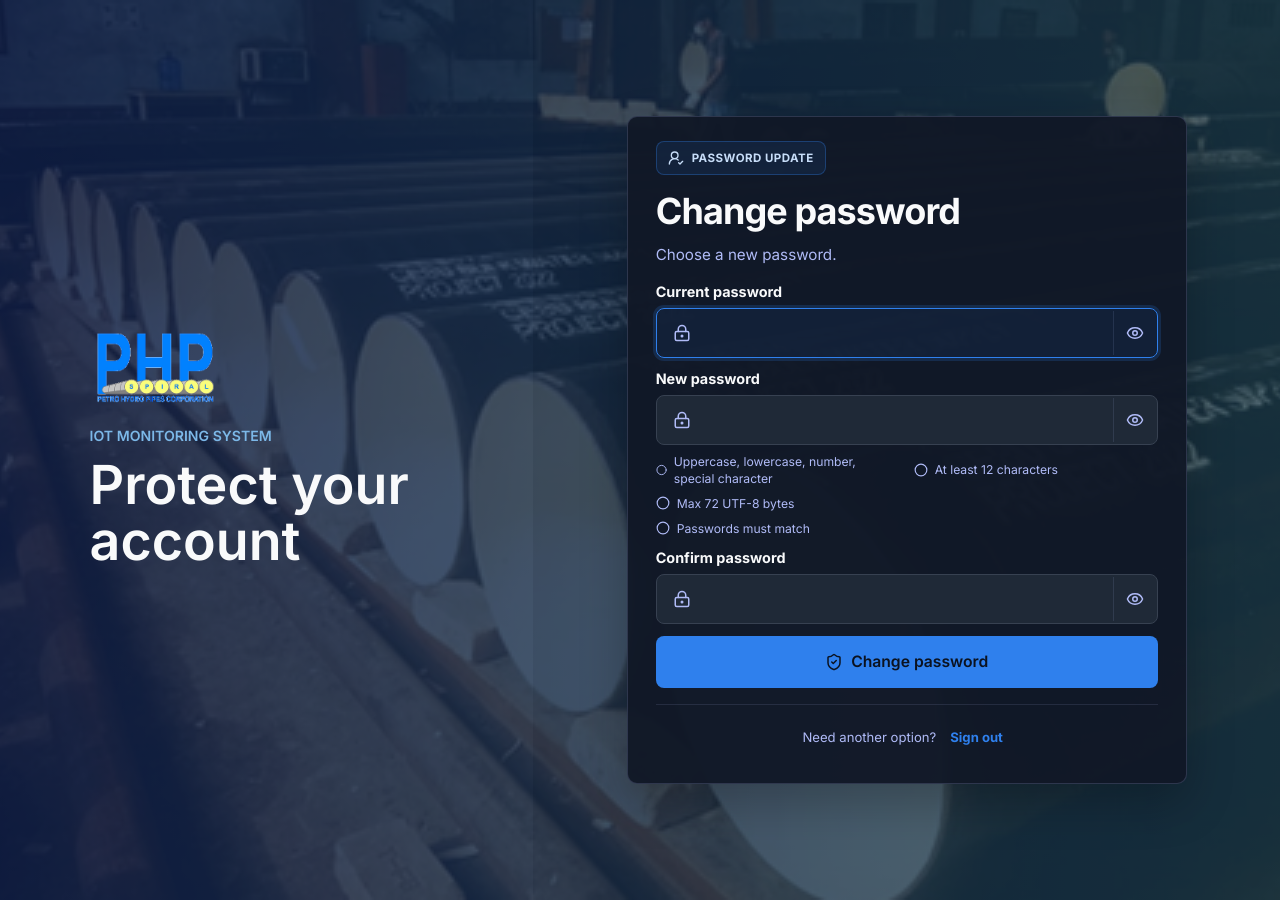
Test: counts Unicode characters instead of UTF-16 units for the minimum length
In the password field labelled "Current password": coordinates (903, 333) [703,309,1103,357], type "old"
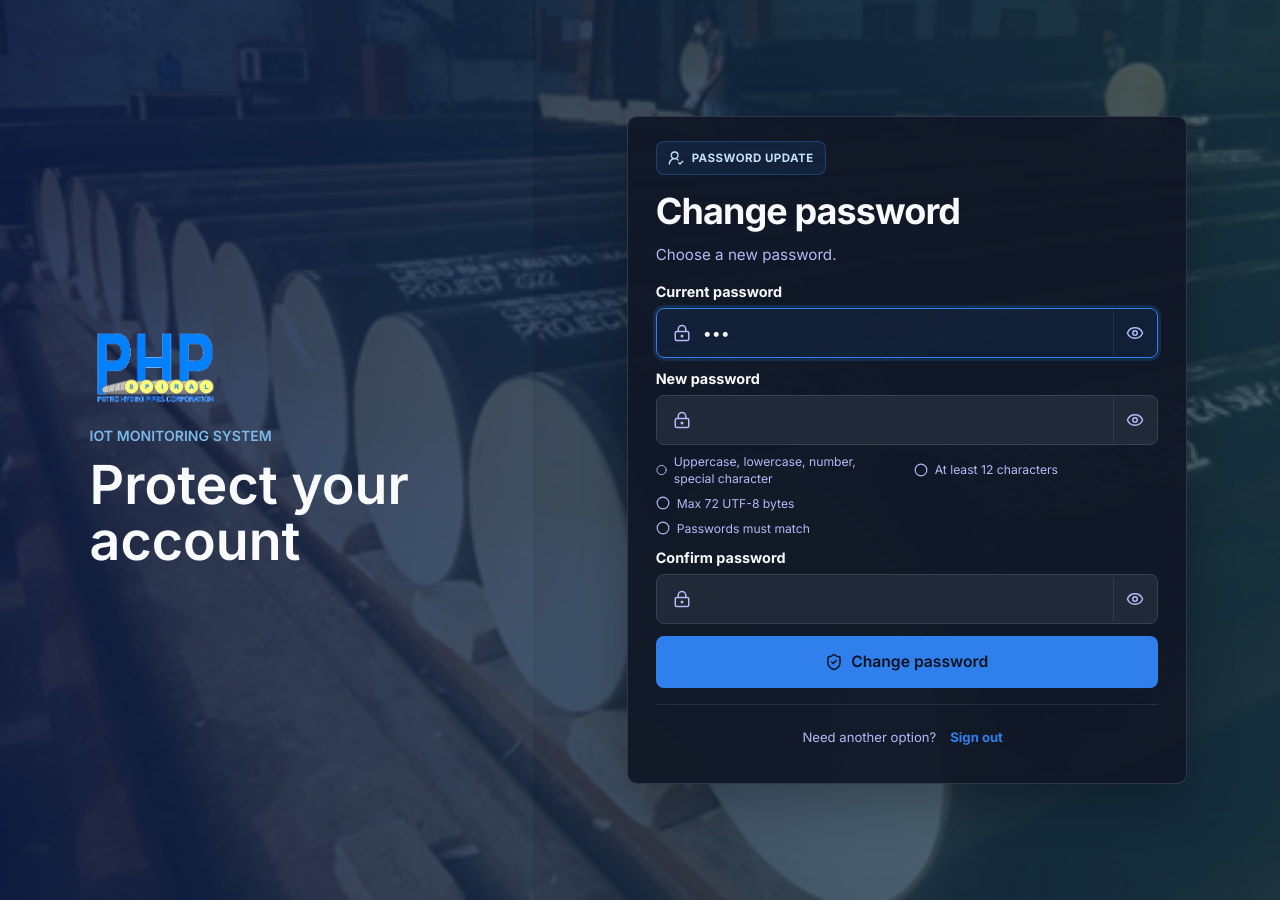
In the password field labelled "New password": coordinates (903, 420) [703,396,1103,444], type "Aa1!😀😀😀😀"
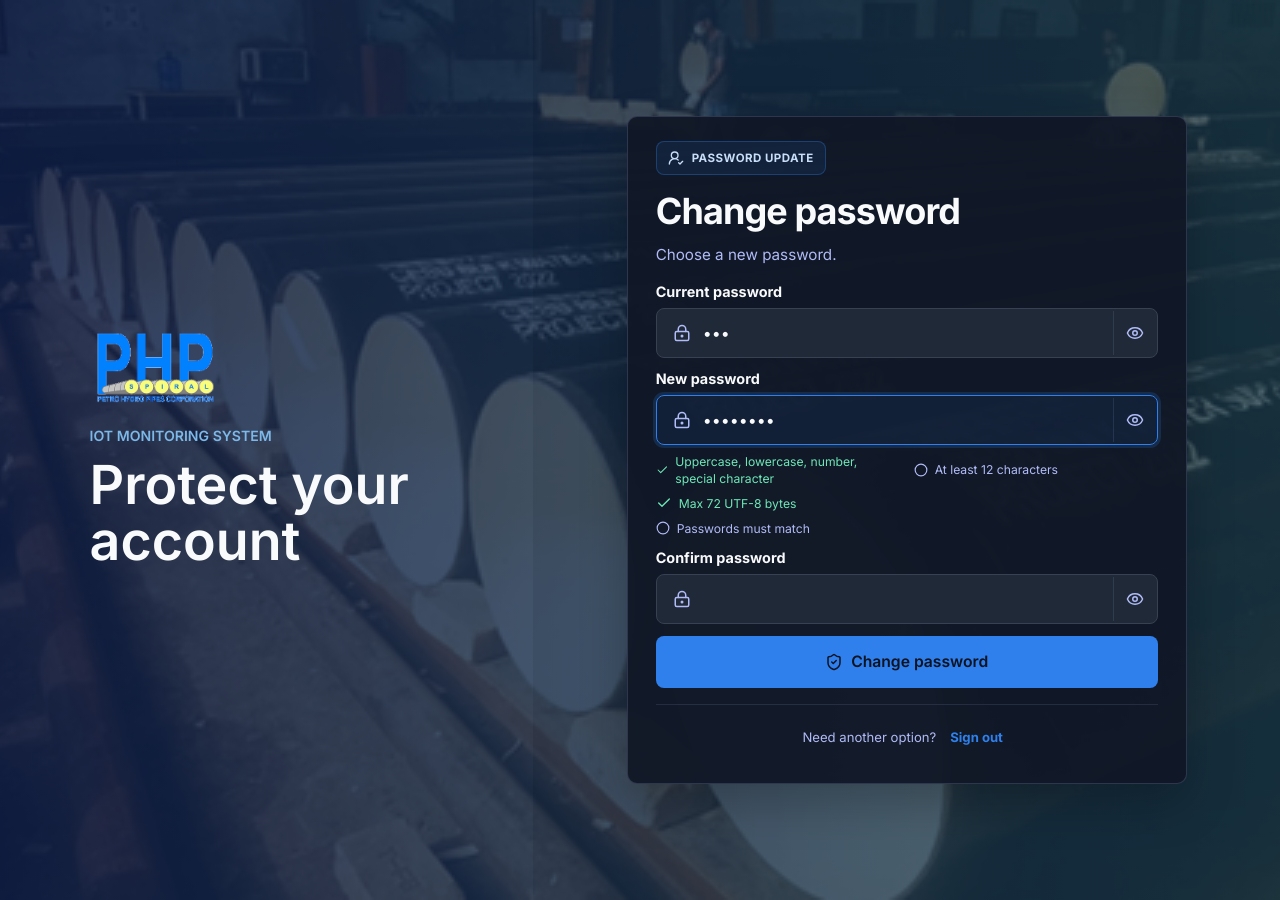
In the password field labelled "Confirm password": coordinates (903, 599) [703,575,1103,623], type "Aa1!😀😀😀😀"
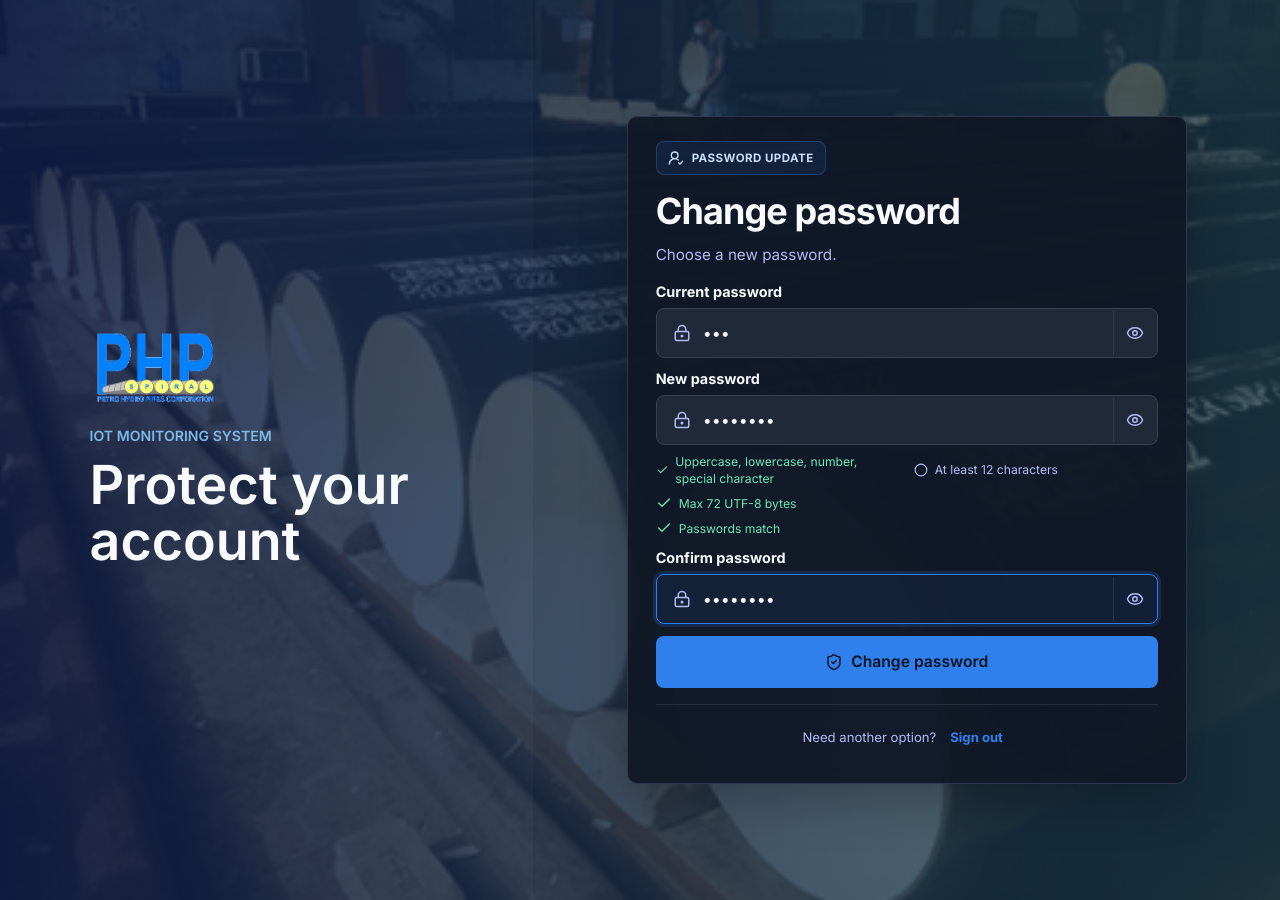
Click the button "Change password": coordinates (907, 662) [656,636,1158,688]
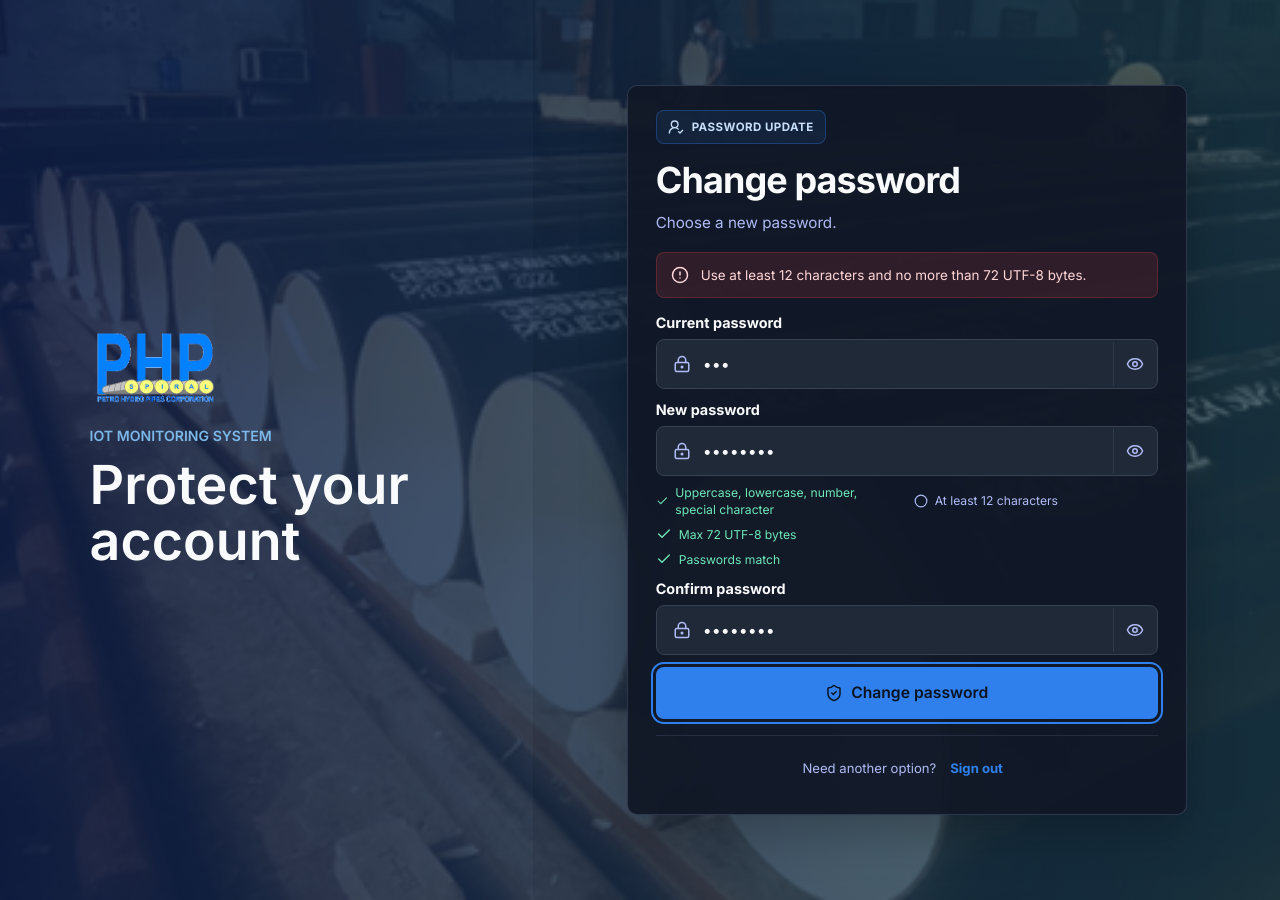
Expected: the message shows "at least 12 characters", [701,267,1086,283]
